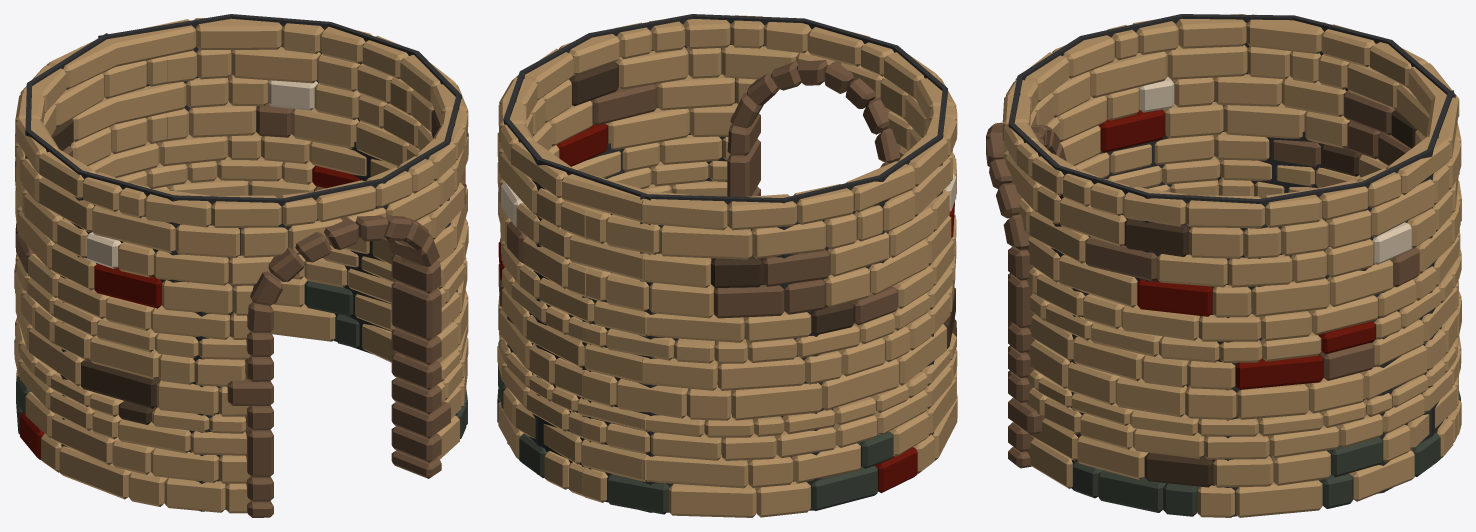
Rendered from tower-base-with-doorway-opt.glb.
3 views of the same model, side by side, from view 1: azimuth 30°, elevation 25°; view 2: azimuth 150°, elevation 25°; view 3: azimuth 270°, elevation 25° (orthographic).
Bounding box in the file's own units: 2 × 1.51 × 2.06.
